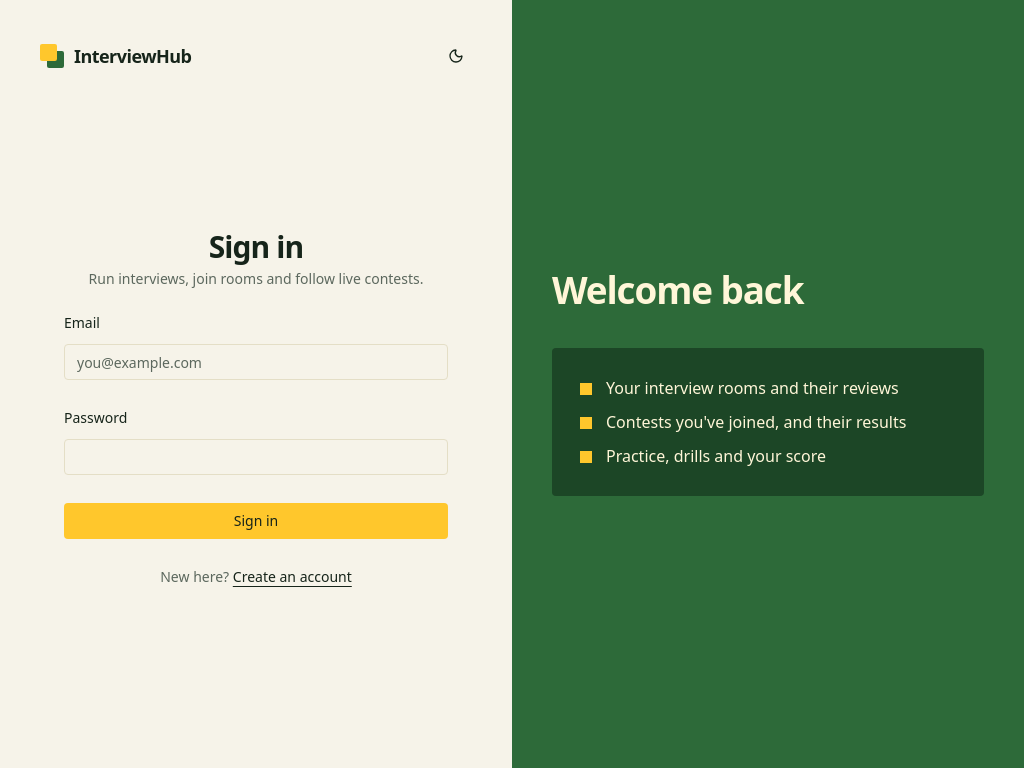
Login page › shows the server error when sign-in fails
The width and height of the screenshot is (1024, 768).
Type "priya@example.com" into the field labelled "Email" at (256, 362), box [64,344,448,380]
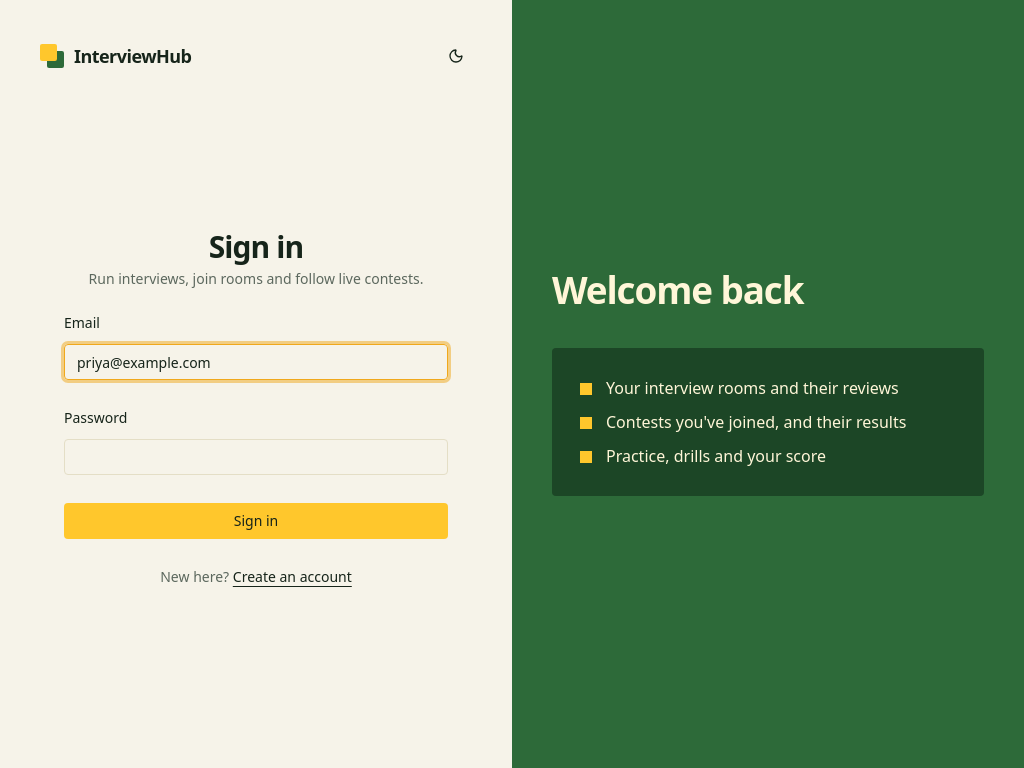
Type "wrongpass" into the password field labelled "Password" at (256, 457), box [64,439,448,475]
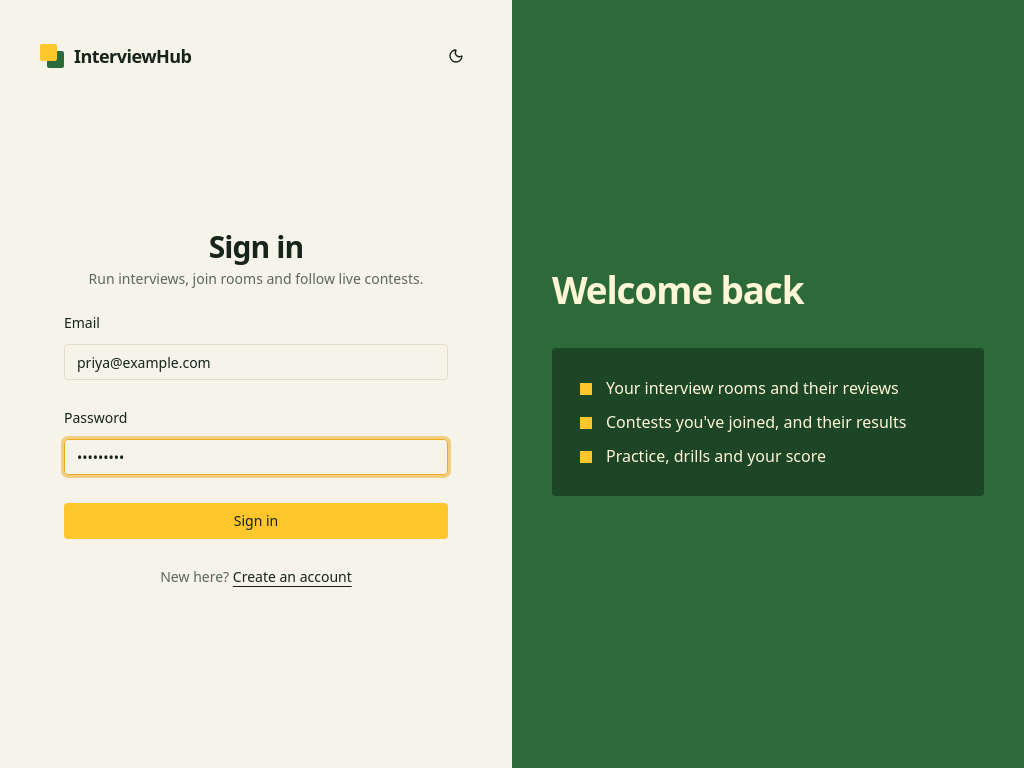
Click the button "Sign in" at (256, 521), box [64,503,448,539]
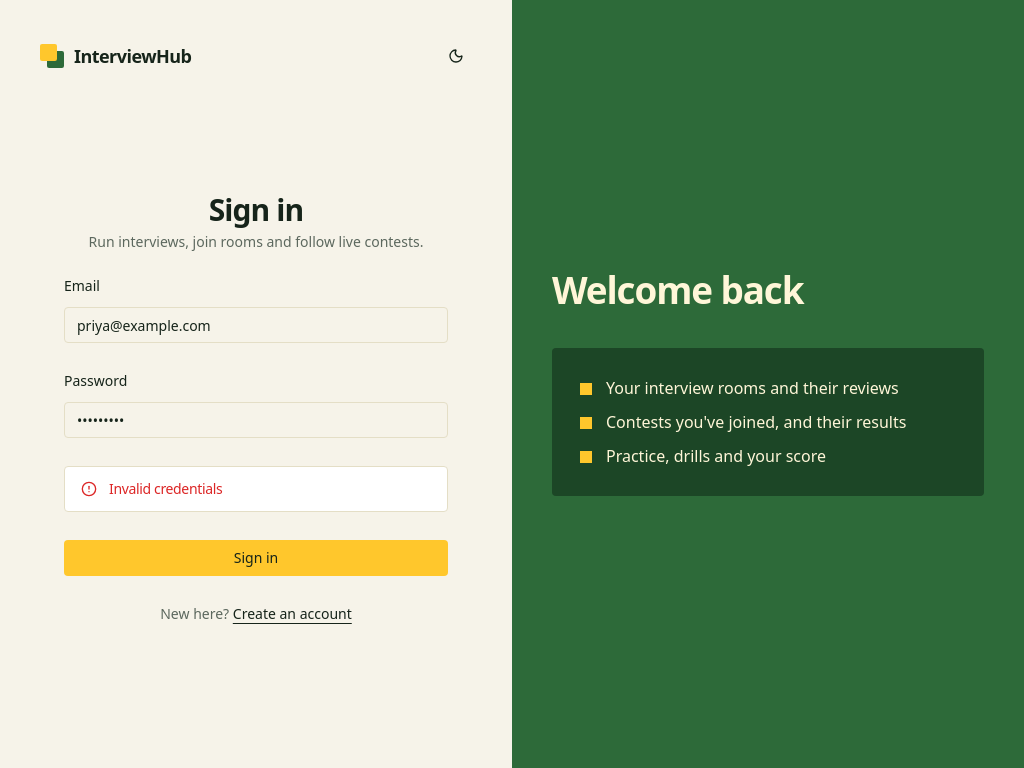
Result: the message reads "Invalid credentials" at [109,479,222,498]
